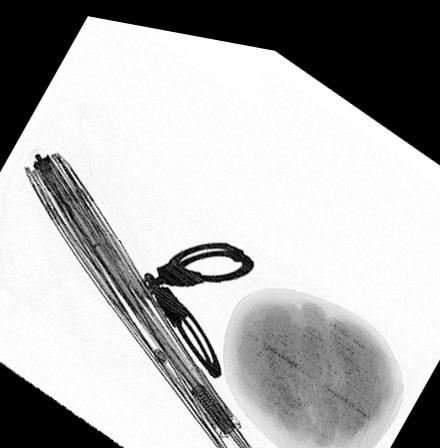HandCuffs: (140, 231, 257, 371)
